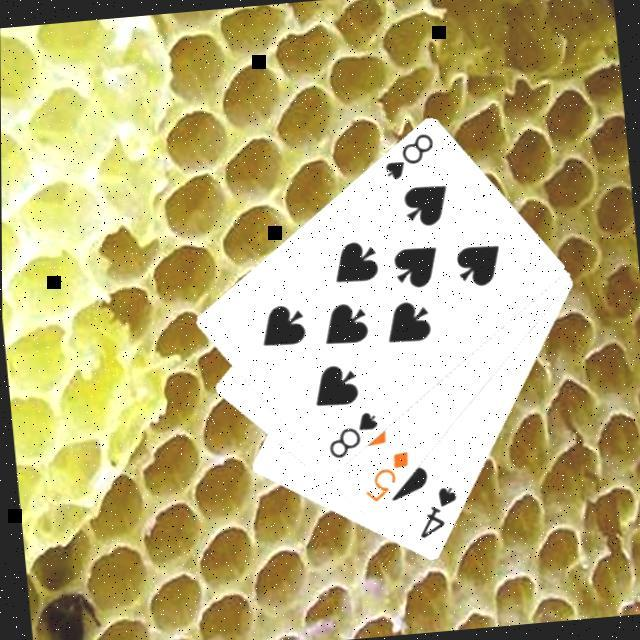4S: (412, 482, 463, 542)
5D: (358, 448, 417, 507)
8S: (322, 408, 384, 464), (378, 129, 440, 185)
